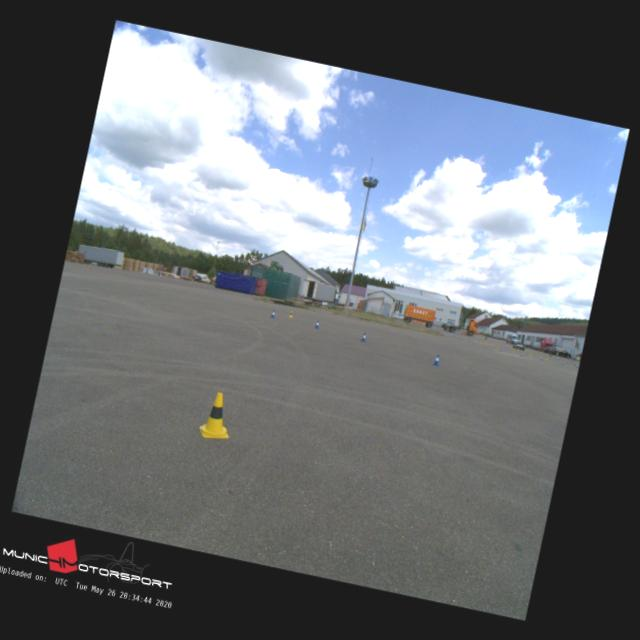blue_cone: (432, 354, 440, 366), (360, 332, 367, 342), (313, 319, 320, 329), (270, 309, 276, 318)
yellow_cone: (196, 388, 236, 442), (288, 310, 294, 318)
